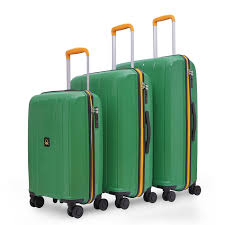suitcase: (116, 14, 201, 203), (68, 23, 153, 211), (26, 47, 105, 217)
